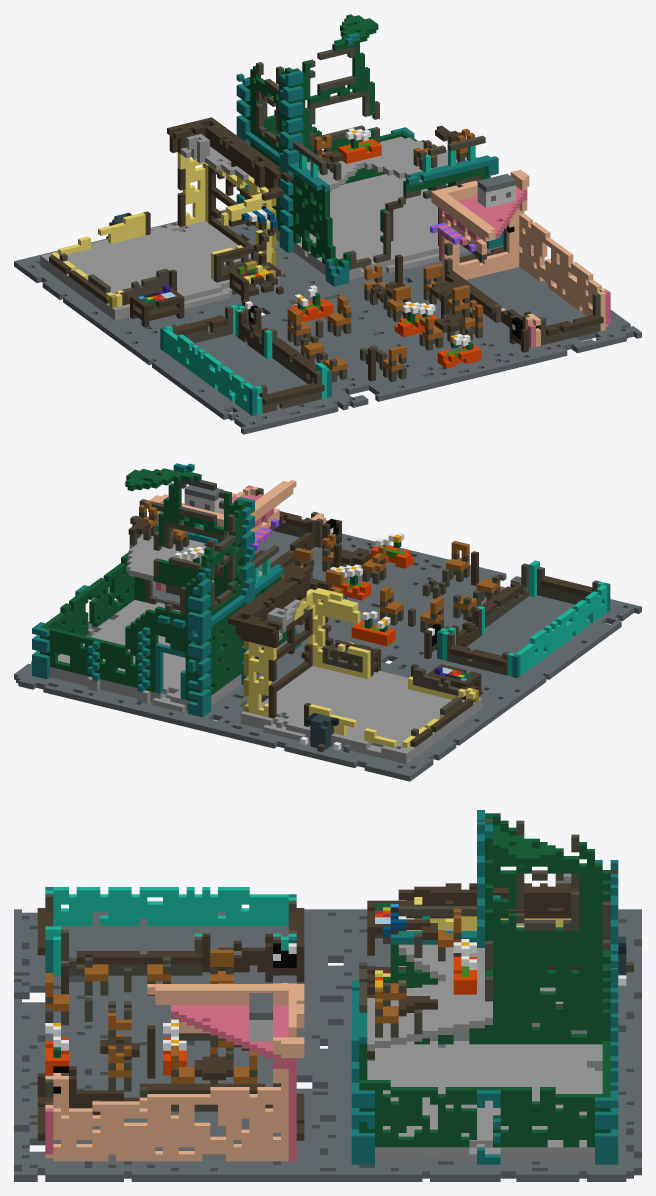
Rendered from building_small_7_destroyed.obj.
The picture shows the model from 3 angles, top to bottom: view 1: azimuth 30°, elevation 25°; view 2: azimuth 150°, elevation 25°; view 3: azimuth 270°, elevation 25°; orthographic projection. The views are drawn at different scales.
Bounding box in the file's own units: 8 × 3.9 × 8.
1 material, 1 textured.
